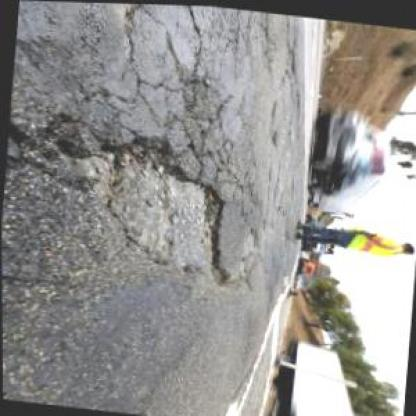pothole: (92, 128, 244, 287), (3, 108, 98, 193), (234, 227, 261, 283)
